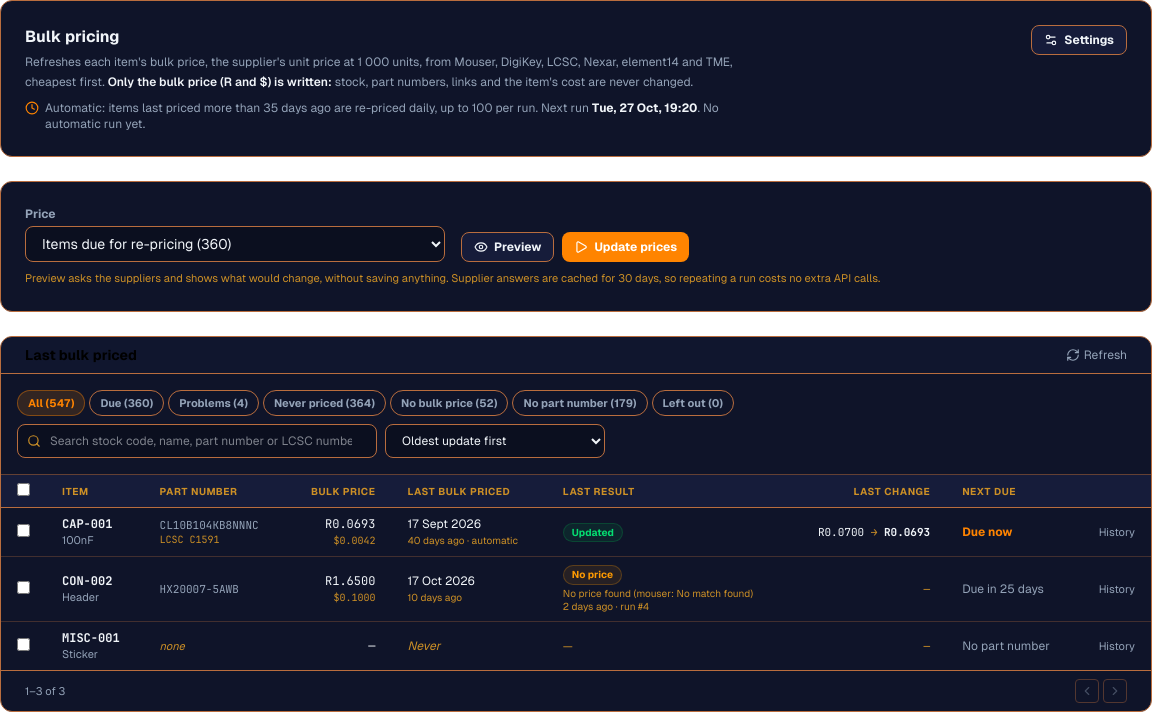
Test: settings › shows them read-only to anyone but an admin
Step 1. Click the button "Settings" → coordinates (1079, 40), box [1031,25,1127,55]
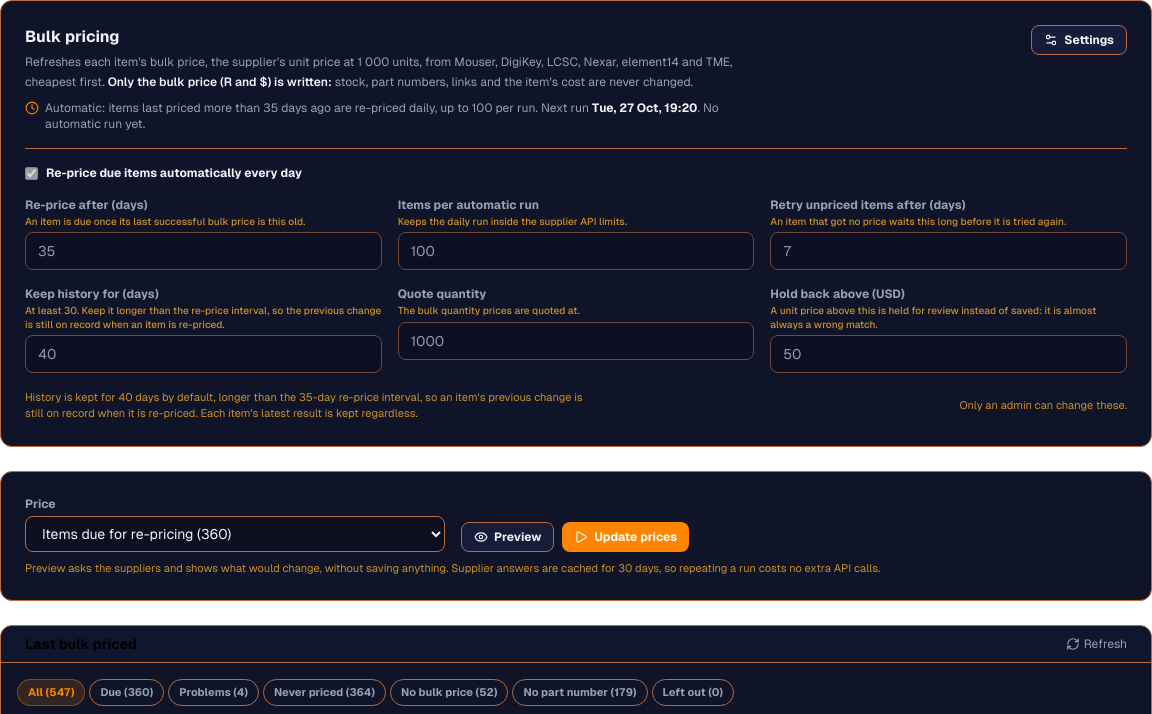
expect the number field named "Re-price after (days)" holds "35": met, box [25,232,382,270]
expect the number field named "Re-price after (days)" is disabled: met, box [25,232,382,270]
